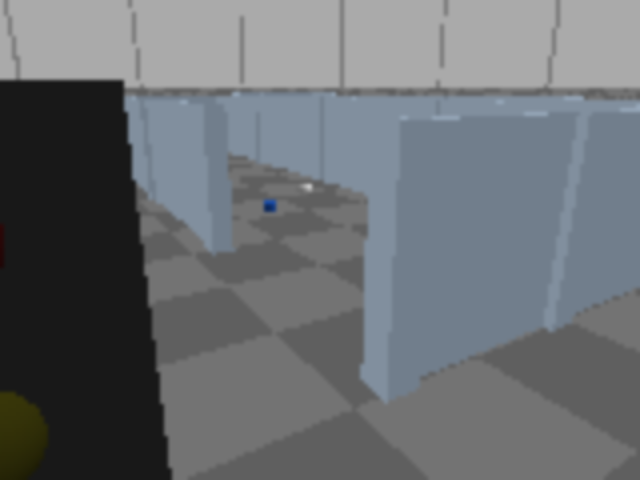puck: (295, 181, 314, 198)
traffic_light: (0, 0, 210, 478)
